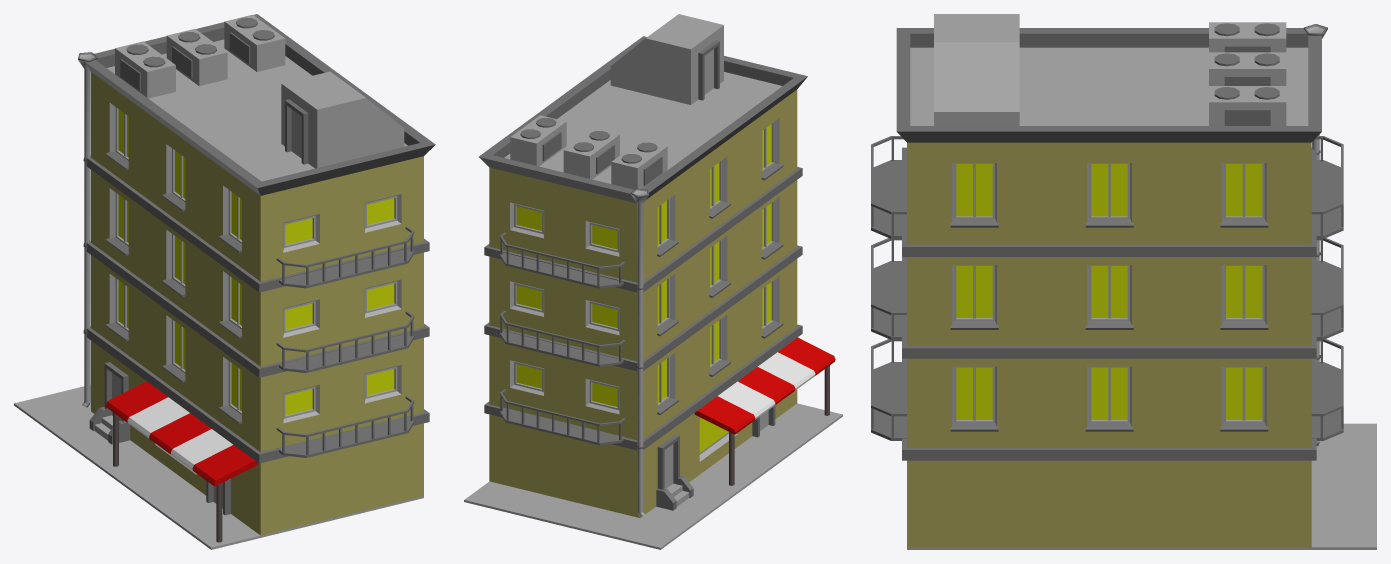
File: Home_V1.fbx
3 views of the same model, side by side, from view 1: azimuth 30°, elevation 25°; view 2: azimuth 150°, elevation 25°; view 3: azimuth 270°, elevation 25° (orthographic). The views are drawn at different scales.
Visible parts, largest first — view 1: Home_1; view 2: Home_1; view 3: Home_1.
Boxes of the visible parts, bbox=[...] form: Home_1: bbox=[14, 14, 435, 549]; Home_1: bbox=[464, 14, 842, 549]; Home_1: bbox=[871, 14, 1376, 549].
Bounding box in the file's own units: 13.47 × 23.79 × 22.49.
